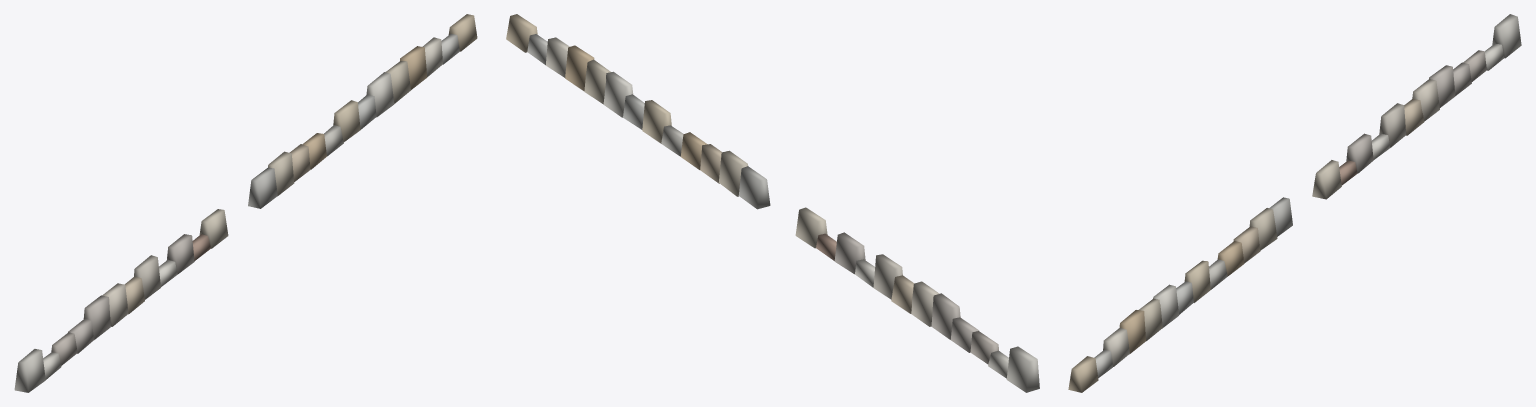
Rendered from farm_9_15_far.glb.
3 views of the same model, side by side, from view 1: azimuth 90°, elevation 25°; view 2: azimuth 150°, elevation 25°; view 3: azimuth 270°, elevation 25° (orthographic). The views are drawn at different scales.
Parts seen in each view (by area): view 1: geometry_0; view 2: geometry_0; view 3: geometry_0.
Part boxes in pixels (box(x1,y1,x2,y2)): geometry_0: box(14, 14, 477, 392); geometry_0: box(506, 14, 1039, 392); geometry_0: box(1068, 14, 1521, 392).
Size of the model in its own units: 38.42 by 1.57 by 20.98.
